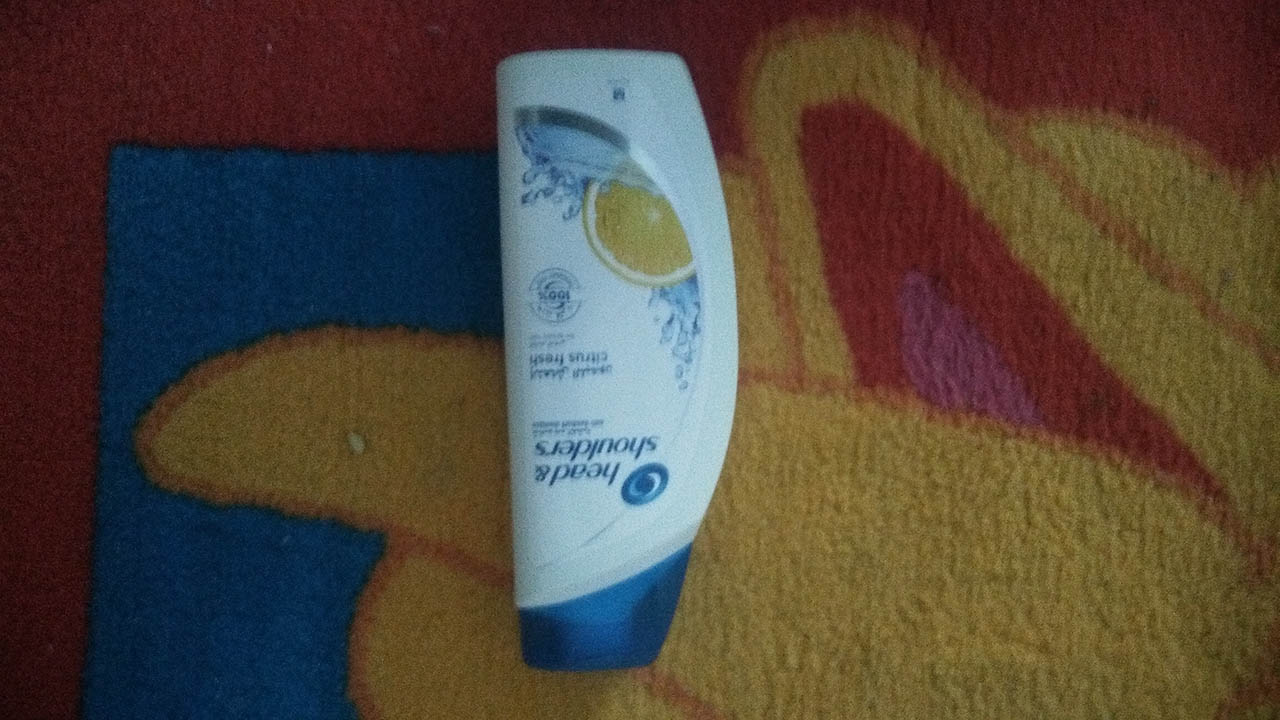shampoo-Lemon 3.5$: (468, 32, 761, 695)
